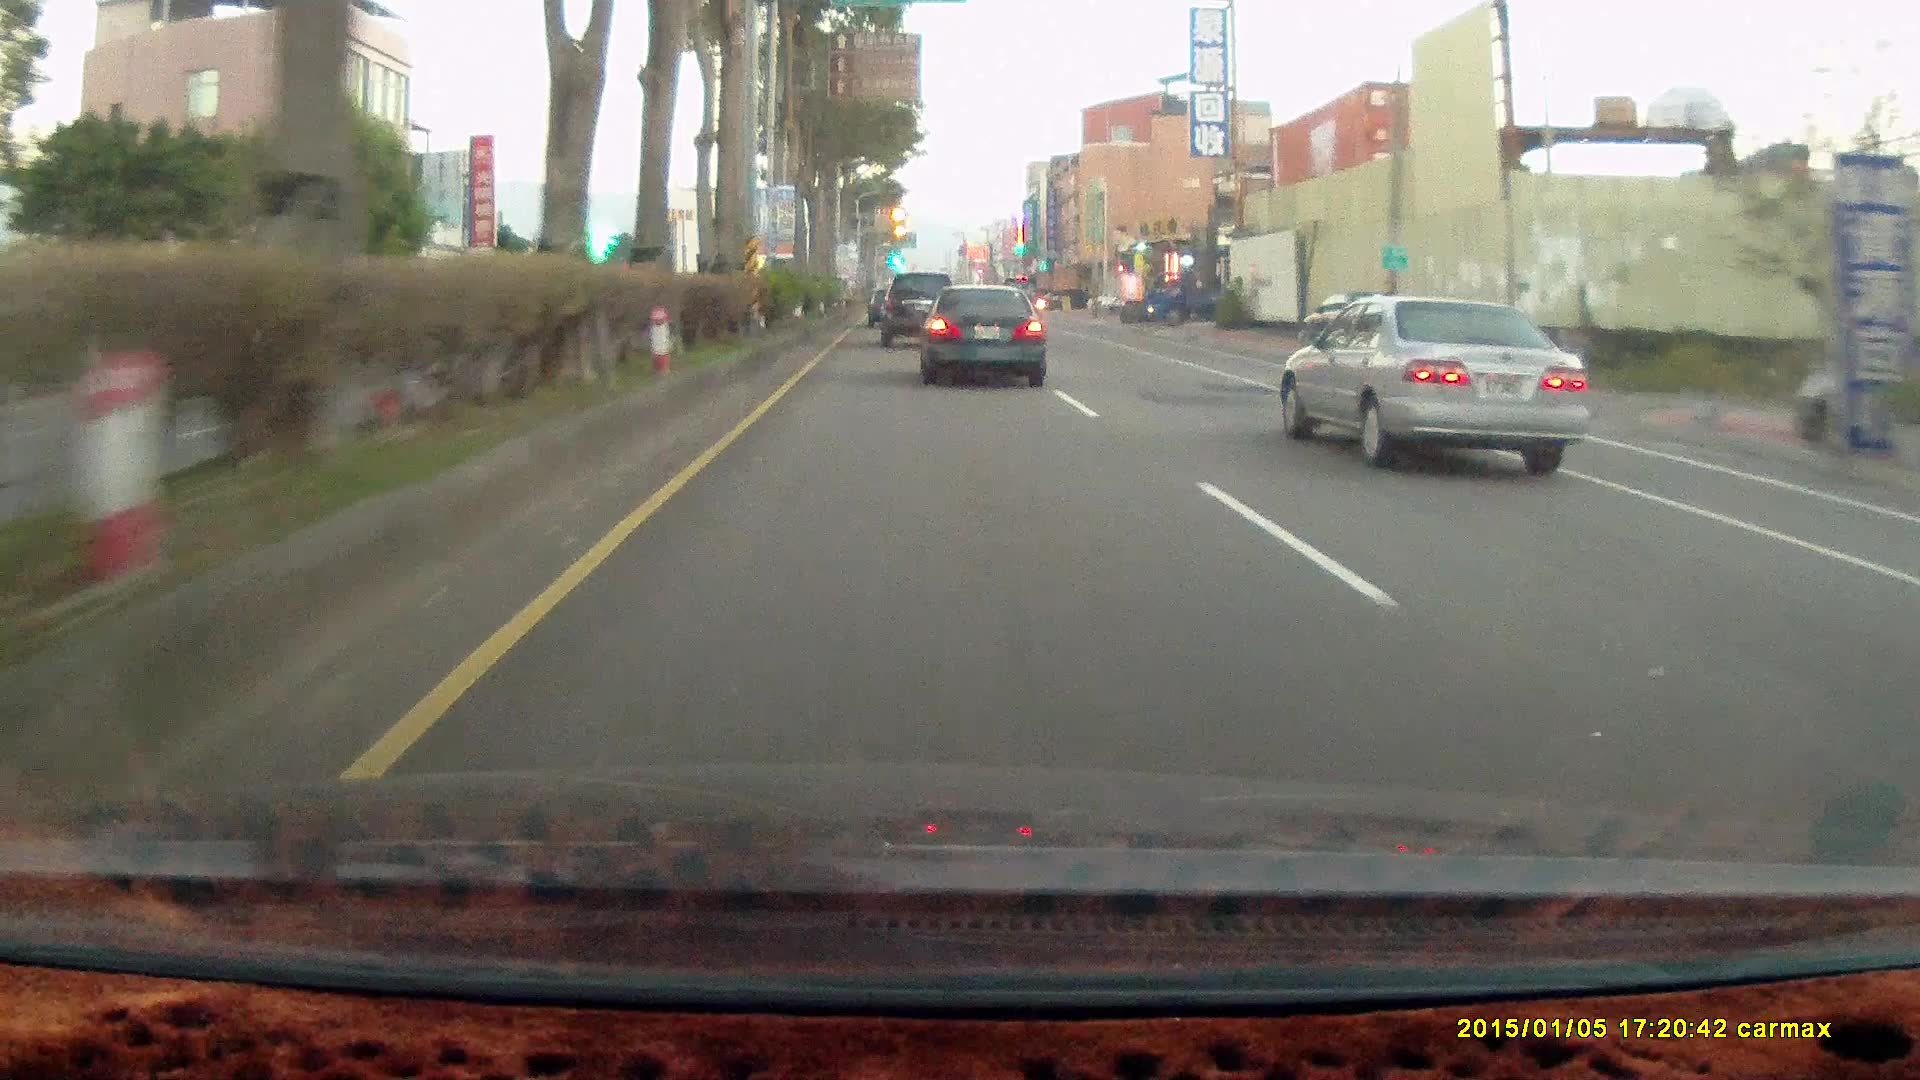vehicle: (1280, 291, 1601, 472), (1280, 291, 1590, 472), (913, 284, 1044, 386), (923, 285, 1052, 389), (880, 273, 960, 348), (880, 273, 960, 347), (1141, 266, 1226, 328), (1048, 287, 1091, 309)
